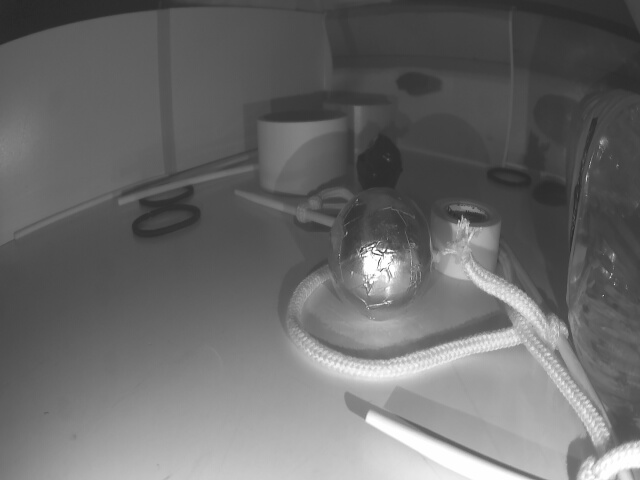Dead: (357, 135, 401, 189)
Live: (326, 189, 435, 318)
